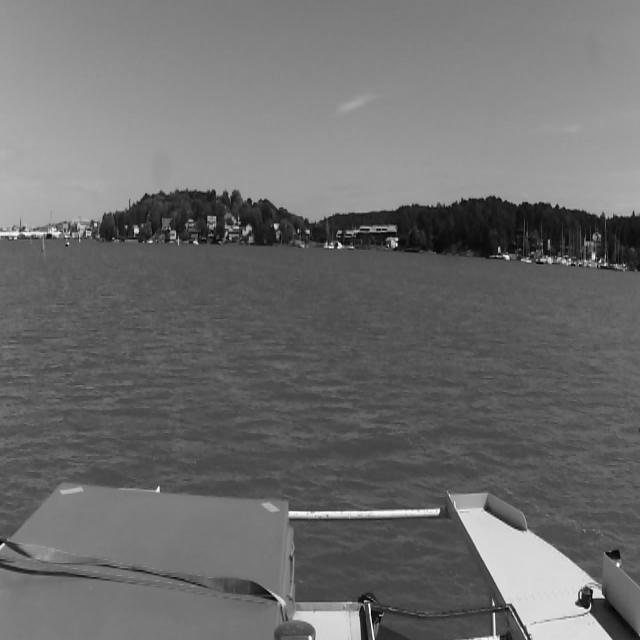buoy: (41, 236, 45, 252), (177, 236, 179, 247), (30, 238, 32, 246)
ship: (65, 242, 71, 247)
